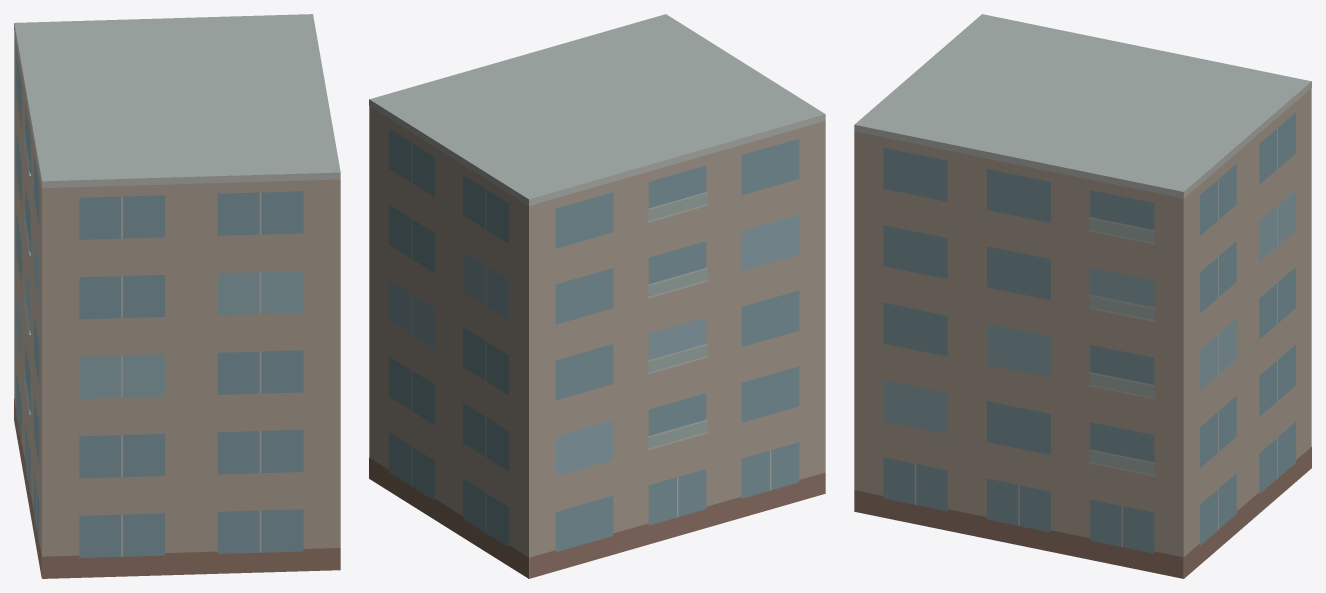
The model's file is survey-upis-32524795.glb.
3 views of the same model, side by side, from view 1: azimuth 30°, elevation 25°; view 2: azimuth 150°, elevation 25°; view 3: azimuth 270°, elevation 25° (orthographic). The views are drawn at different scales.
Visible parts, largest first — view 1: survey-upis-32524795.tmp; view 2: survey-upis-32524795.tmp; view 3: survey-upis-32524795.tmp.
Boxes of the visible parts, bbox=[...] form: survey-upis-32524795.tmp: bbox=[14, 14, 340, 578]; survey-upis-32524795.tmp: bbox=[369, 14, 825, 578]; survey-upis-32524795.tmp: bbox=[854, 14, 1311, 578].
Bounding box in the file's own units: 13.82 × 14 × 15.01.
